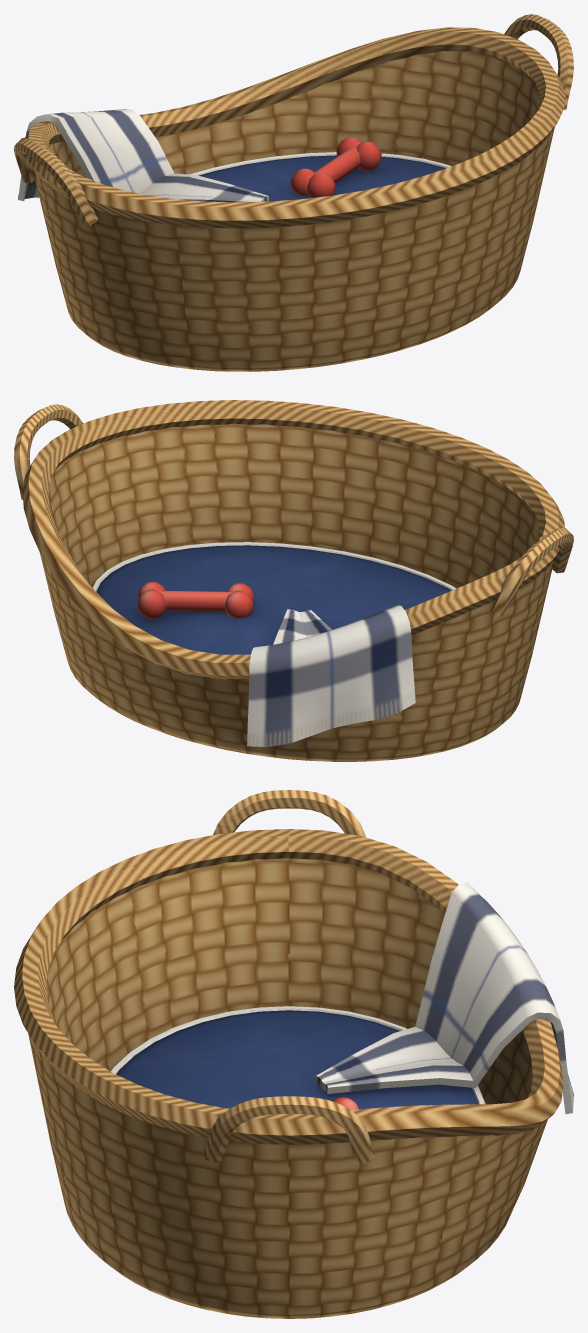
Rendered from pet-bed-basket.fbx.
The picture shows the model from 3 angles, top to bottom: view 1: azimuth 30°, elevation 25°; view 2: azimuth 150°, elevation 25°; view 3: azimuth 270°, elevation 25°; orthographic projection. The views are drawn at different scales.
Visible parts, largest first — view 1: Body; view 2: Body; view 3: Body.
Part boxes in pixels (box(x1,y1,x2,y2)): Body: box(14, 14, 573, 371); Body: box(14, 400, 573, 761); Body: box(14, 790, 573, 1318).
Size of the model in its own units: 0.9672 by 0.367 by 0.7305.
